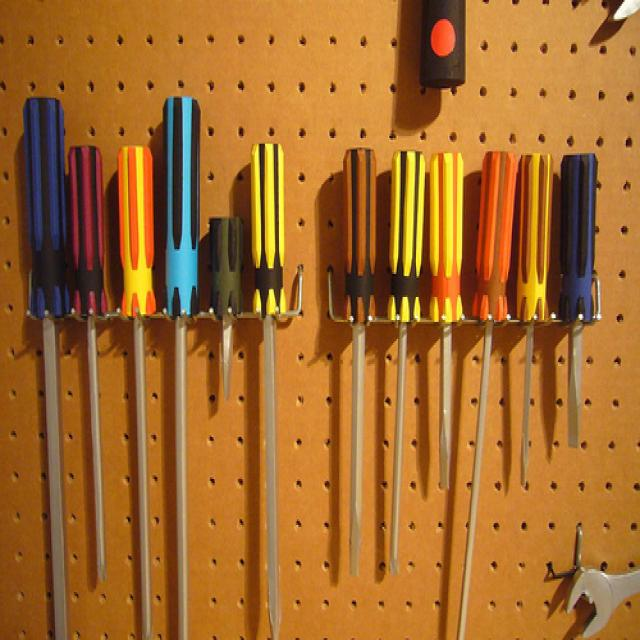screw driver: (10, 50, 94, 632), (240, 124, 306, 640), (151, 79, 204, 640), (554, 136, 617, 486), (333, 115, 378, 600), (386, 137, 426, 609), (507, 128, 551, 512), (426, 137, 460, 528)
